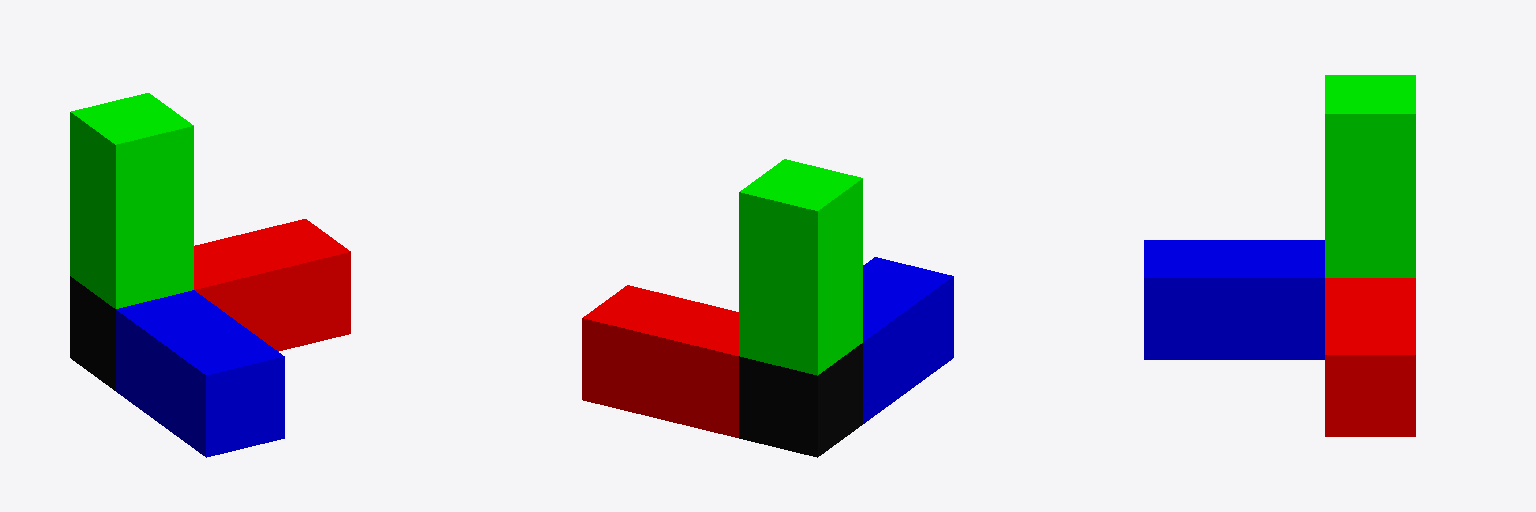
The picture shows the model from 3 angles: view 1: azimuth 30°, elevation 25°; view 2: azimuth 150°, elevation 25°; view 3: azimuth 270°, elevation 25°; orthographic projection.
Parts seen in each view (by area): view 1: object 1; view 2: object 1; view 3: object 1.
Part boxes in pixels (x1,y1,x2,y2): object 1: (70,93,350,457); object 1: (582,159,953,457); object 1: (1144,75,1415,436).
Bounding box in the file's own units: 0.3 × 0.3 × 0.3.
1 materials, 1 textured.